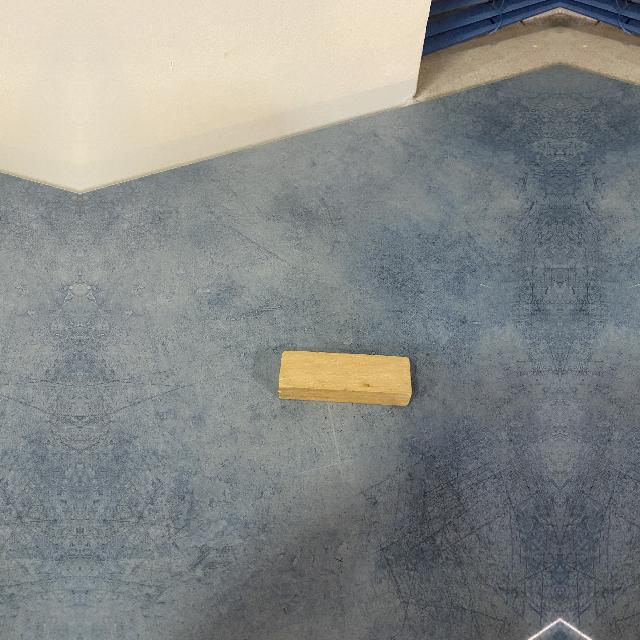jenga: (278, 349, 412, 405)
